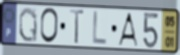5: (142, 12, 160, 50)
A: (116, 12, 139, 48)
L: (91, 10, 108, 47)
O: (39, 7, 60, 45)
Q: (18, 6, 38, 44)
T: (68, 8, 86, 46)
